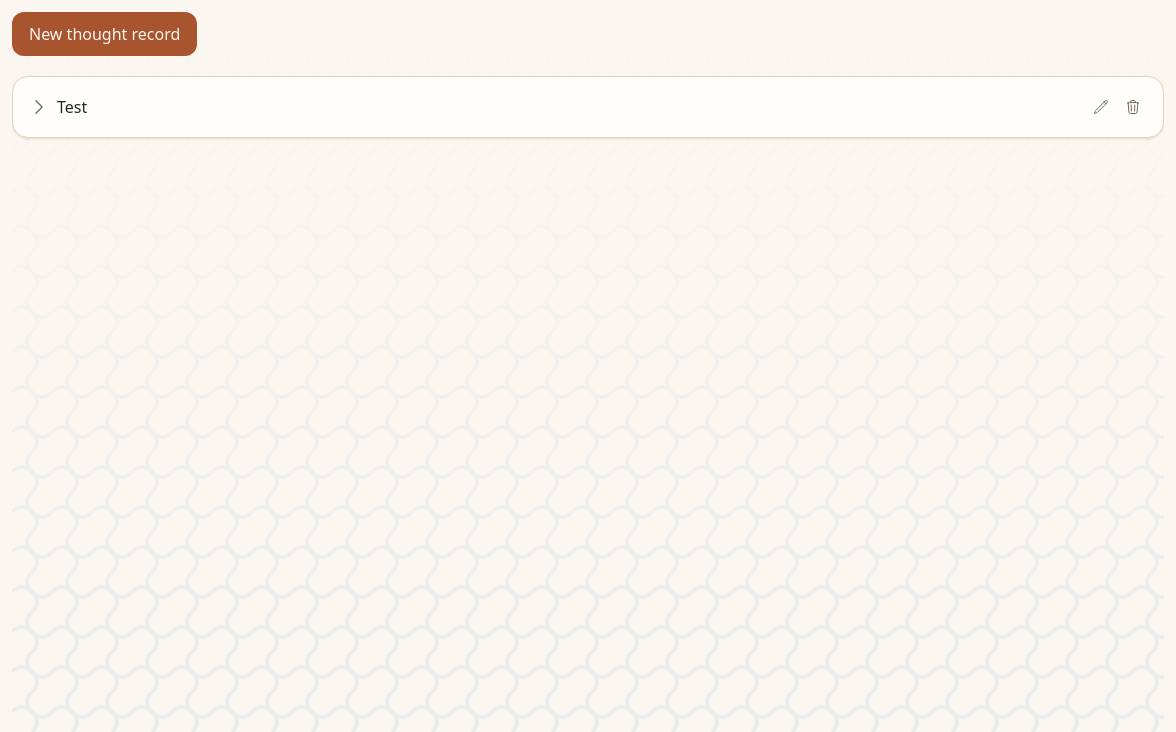
ThoughtRecord tool › shows word labels for feeling strength, never a raw digit
Click the button "New thought record" at x=105, y=34, box [12,12,197,56]
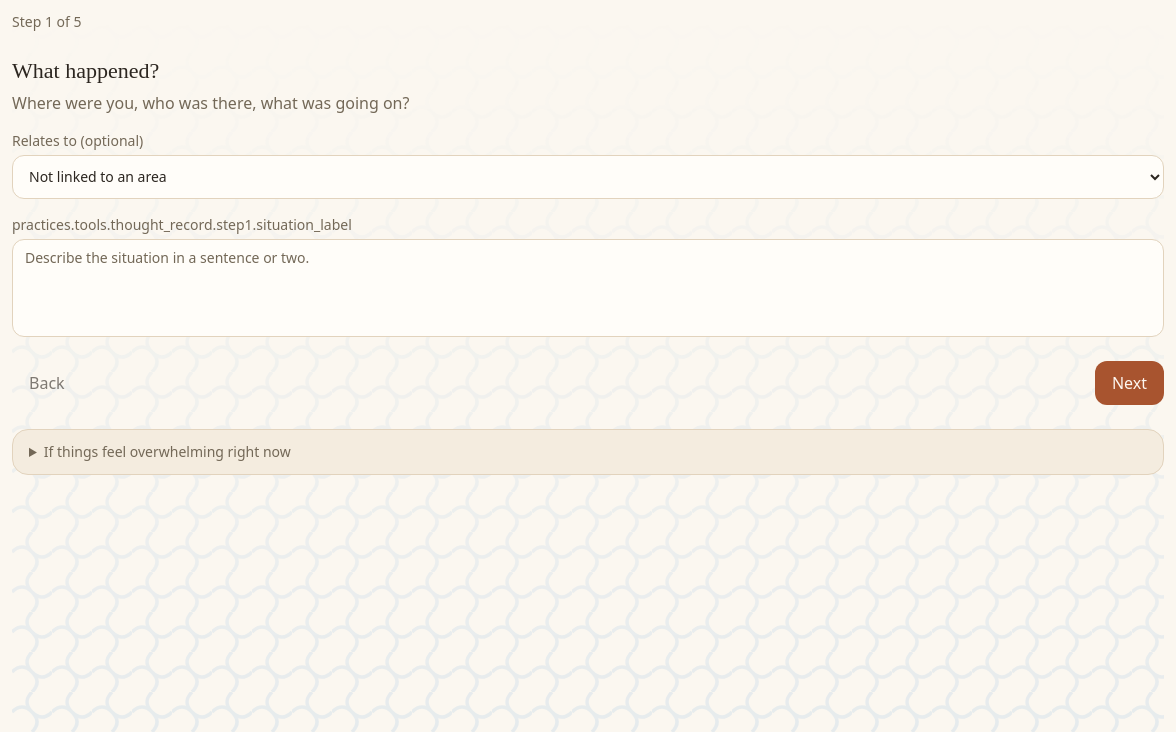
Click the button "Next" at x=1129, y=383, box [1095,361,1164,405]
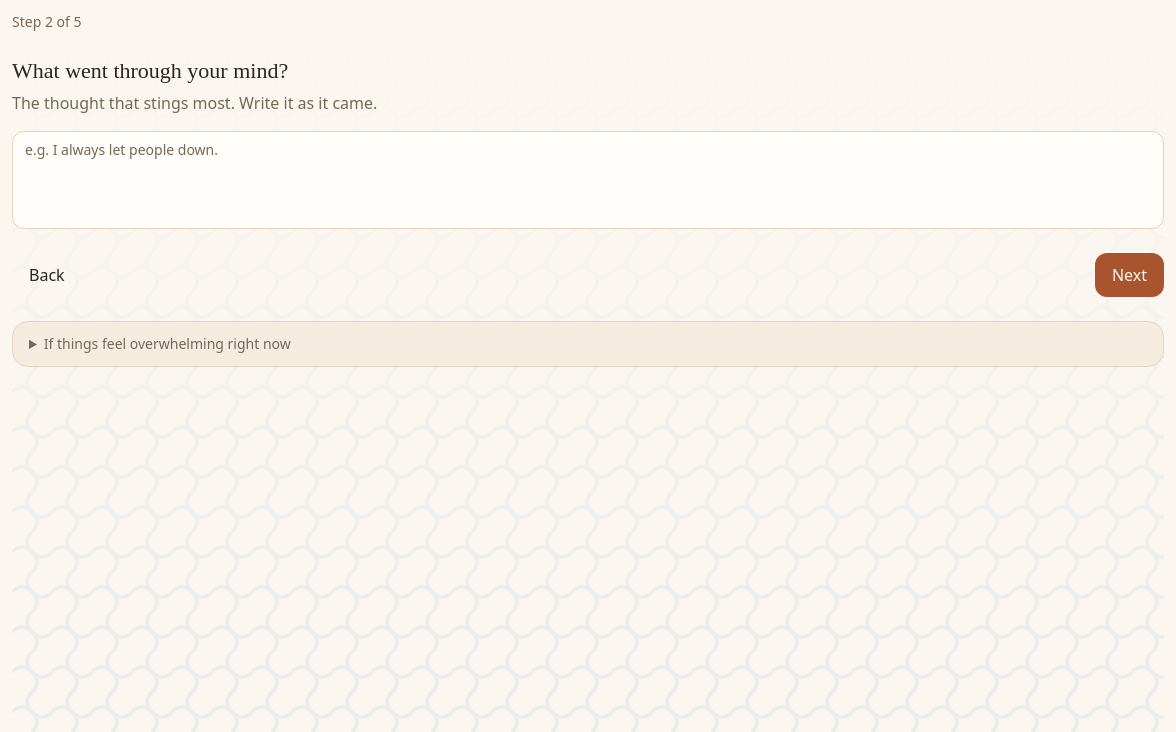
Click the button "Next" at x=1129, y=275, box [1095,253,1164,297]
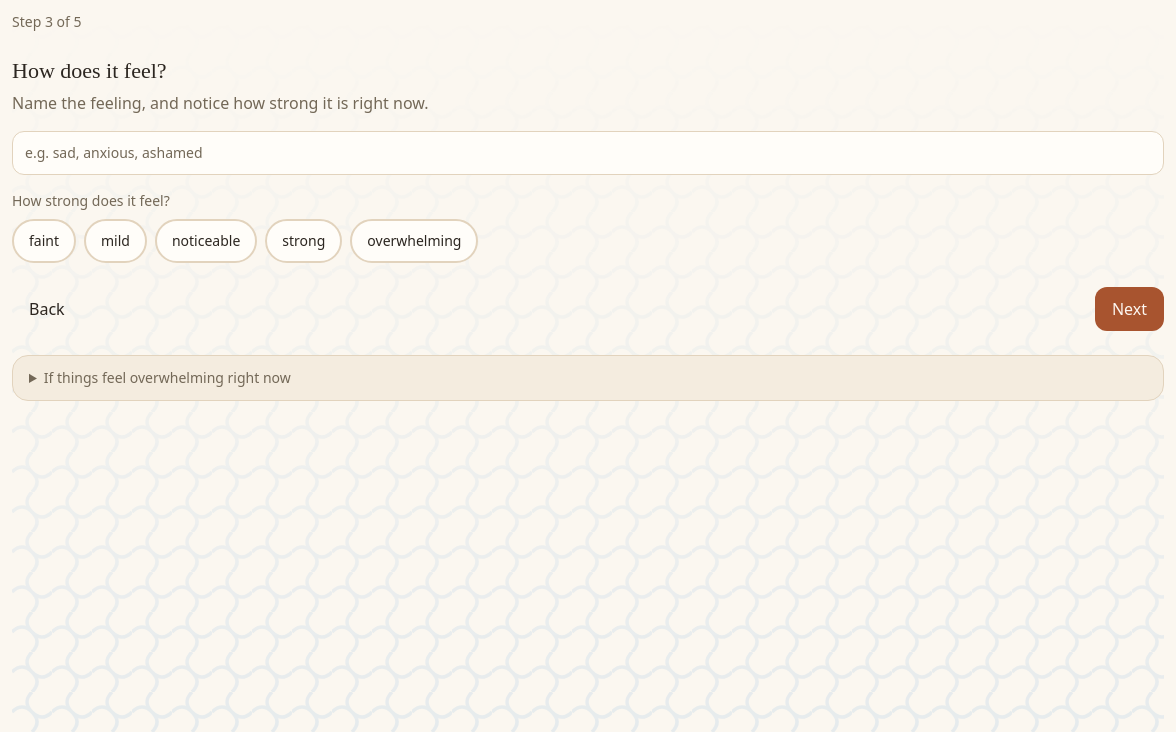
Check: the button "faint" is shown, box [12,219,76,263]
